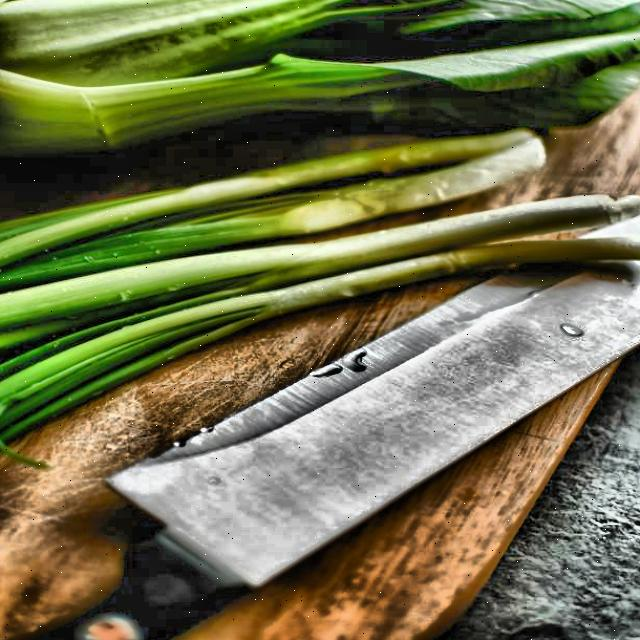knife: (3, 202, 640, 640)
